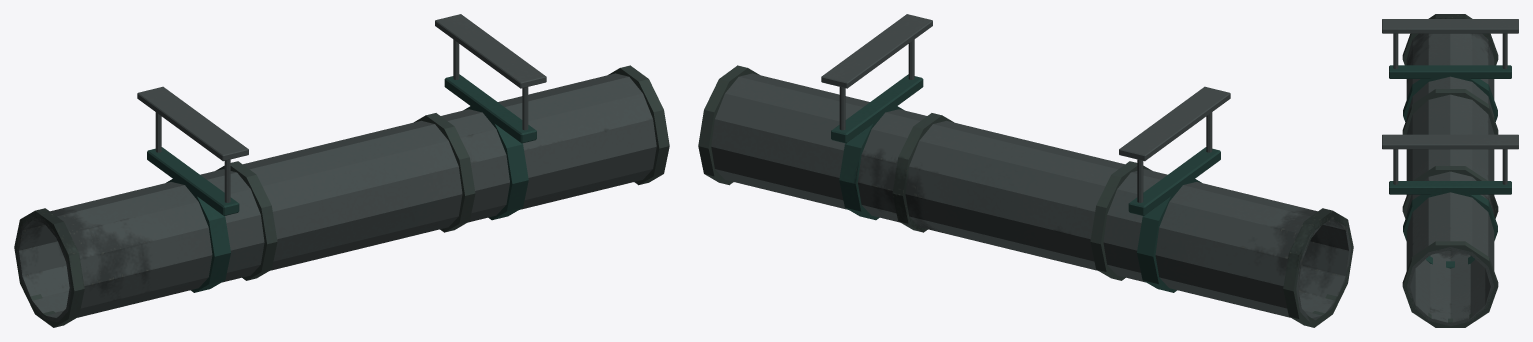
File: duct_straight_4m.glb
The picture shows the model from 3 angles, left to right: view 1: azimuth 30°, elevation 25°; view 2: azimuth 150°, elevation 25°; view 3: azimuth 270°, elevation 25°; orthographic projection. The views are drawn at different scales.
Parts seen in each view (by area): view 1: duct_straight_4m; view 2: duct_straight_4m; view 3: duct_straight_4m.
Boxes of the visible parts, left/top/right/bottom form: duct_straight_4m: left=14, top=14, right=669, bottom=327; duct_straight_4m: left=698, top=14, right=1353, bottom=327; duct_straight_4m: left=1382, top=14, right=1518, bottom=327.
Bounding box in the file's own units: 4 × 1.05 × 1.
Materials: 1 (1 with a texture image).
